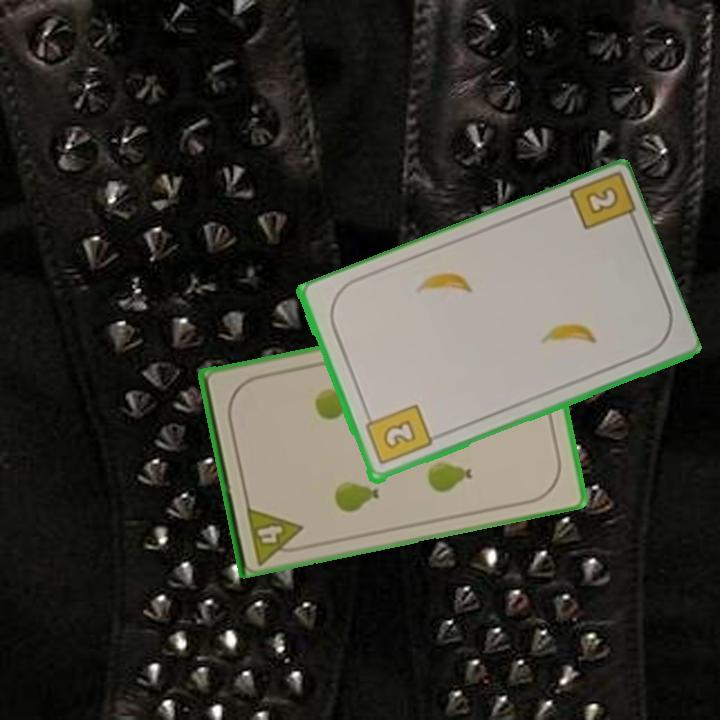2b: (361, 401, 434, 468), (563, 172, 641, 233)
4p: (242, 501, 309, 566)
